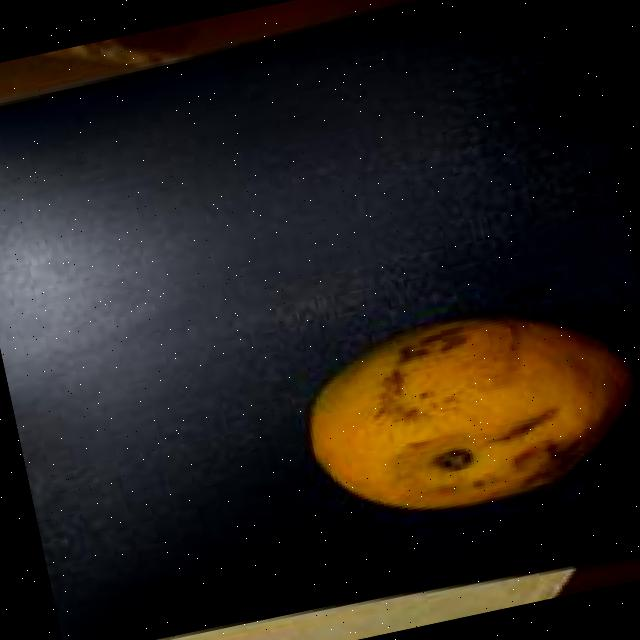overripe: (279, 278, 640, 541)
